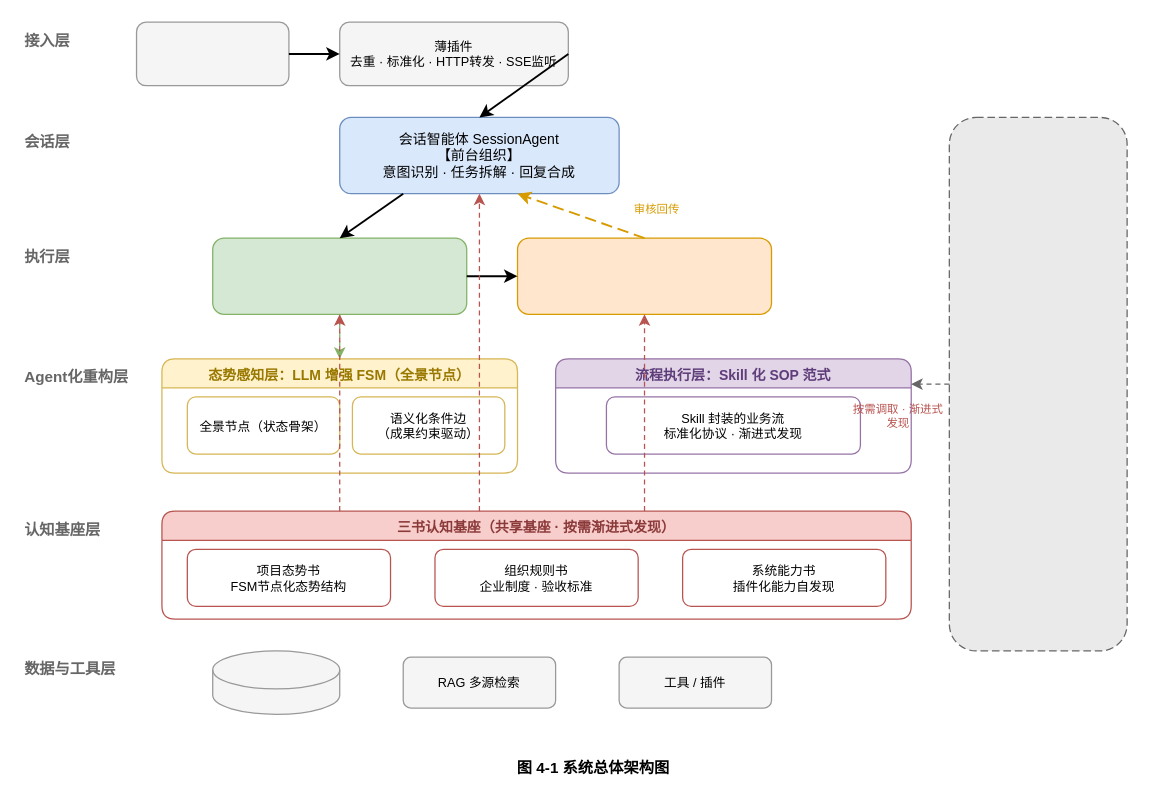
The diagram is 1149 pixels wide and 806 high, and some of its shapes have lost their labels. Each missing label, with the centre of its shape:
IM 渠道 （即时通信软件）: point (212, 53)
任务智能体 WorkItemAgent 【中台执行】 结构化输出优先: point (339, 275)
关系型数据库: point (275, 682)
受控持续演进机制（贯穿各层） 人批准 · 系统执行 · 全程留痕 · 三书/SOP/节点周期性更新: point (1037, 383)
审核智能体 GuardianAgent 【后台审核】 越权 · 合规 · 成果约束: point (644, 275)
